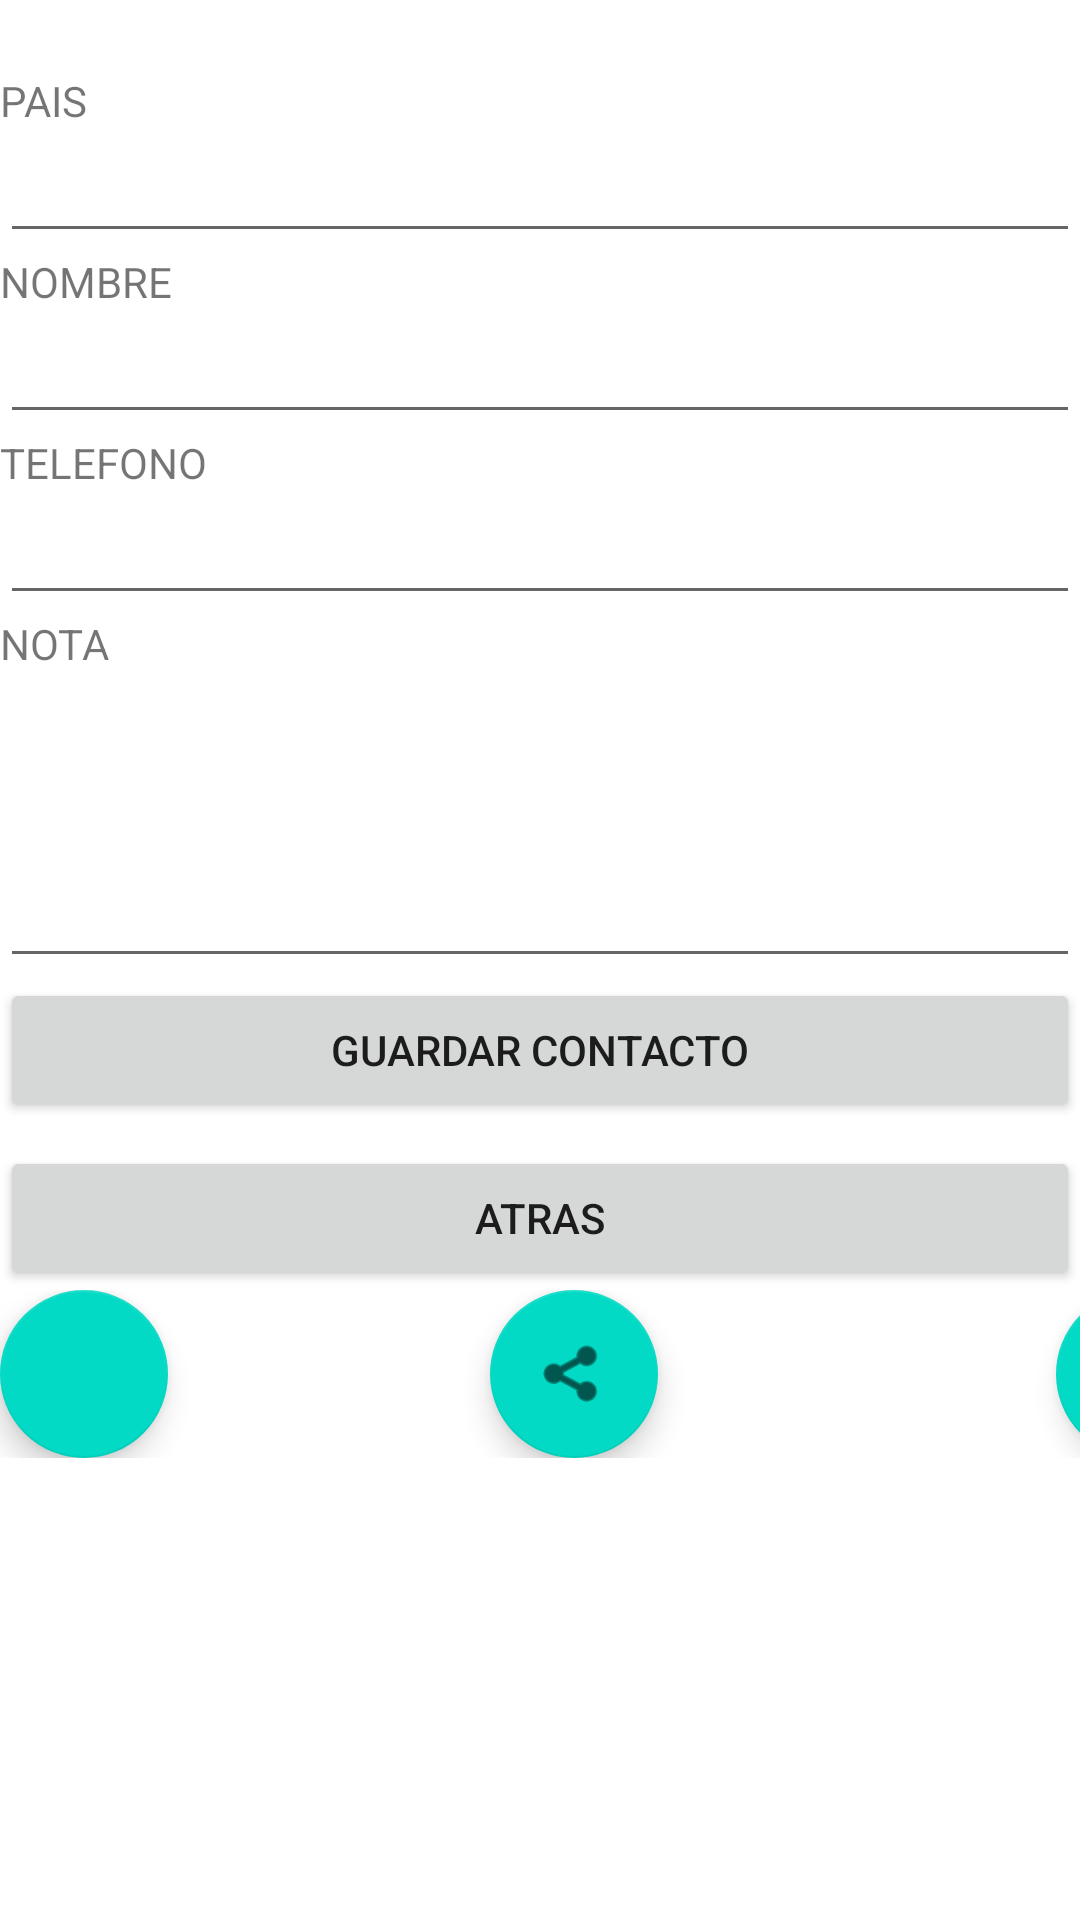

Screen size 1080w x 1920h. Icon name, then its center in pixels as (x,y):
share: (574,1374)
